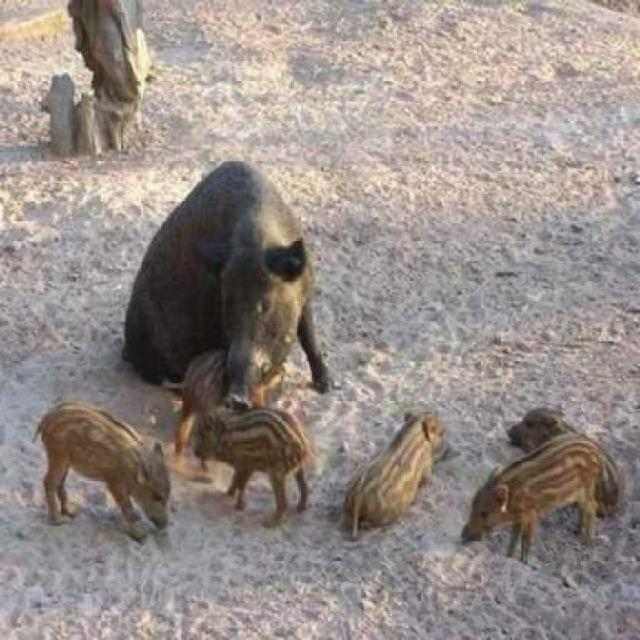Boar: (148, 160, 355, 391), (461, 411, 602, 566), (37, 421, 186, 537), (344, 403, 467, 528), (195, 400, 322, 512)
